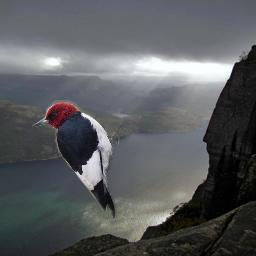Woodpecker: (28, 100, 123, 218)
